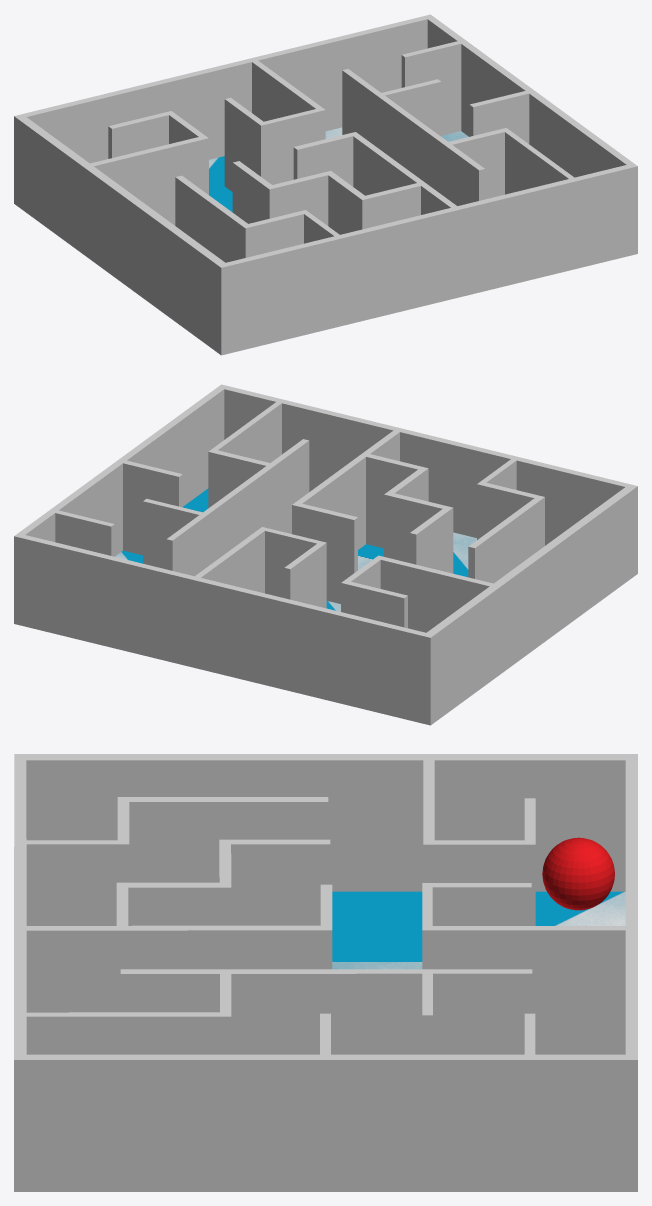
File: maze.glb
3 views of the same model, one above another, from view 1: azimuth 30°, elevation 25°; view 2: azimuth 150°, elevation 25°; view 3: azimuth 270°, elevation 25° (orthographic). The views are drawn at different scales.
Visible parts, largest first — view 1: walls, groundPlane; view 2: walls, groundPlane; view 3: walls, groundPlane, marble.
Part boxes in pixels (x1,y1,x2,y2): walls: (14,14,637,355); groundPlane: (209,127,468,212); walls: (14,384,637,725); groundPlane: (115,488,476,611); walls: (14,754,637,1191); groundPlane: (332,891,625,969); marble: (542,837,614,910).
Bounding box in the file's own units: 9.95 × 2 × 8.58.
Materials: 3 (1 with a texture image).
